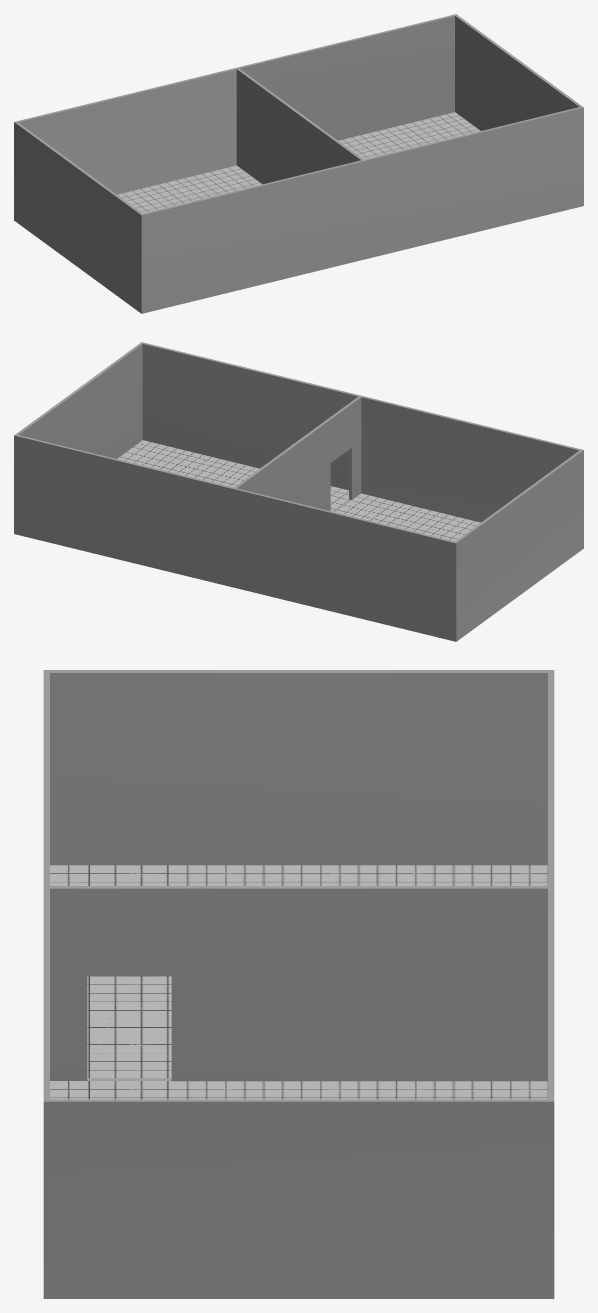
File: Room1.fbx
3 views of the same model, one above another, from view 1: azimuth 30°, elevation 25°; view 2: azimuth 150°, elevation 25°; view 3: azimuth 270°, elevation 25° (orthographic). The views are drawn at different scales.
Parts seen in each view (by area): view 1: Room1; view 2: Room1; view 3: Room1.
Boxes of the visible parts, <box> form: Room1: <box>14,14,583,313</box>; Room1: <box>14,342,583,641</box>; Room1: <box>43,670,554,1298</box>.
Bounding box in the file's own units: 2000 × 426 × 1000.
